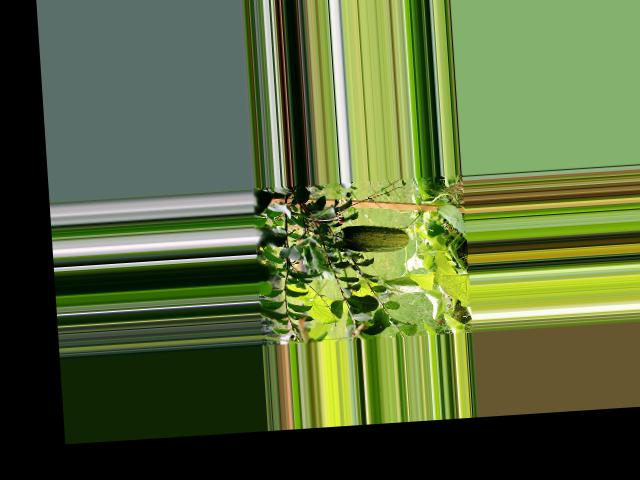cucumber: (332, 221, 409, 254)
